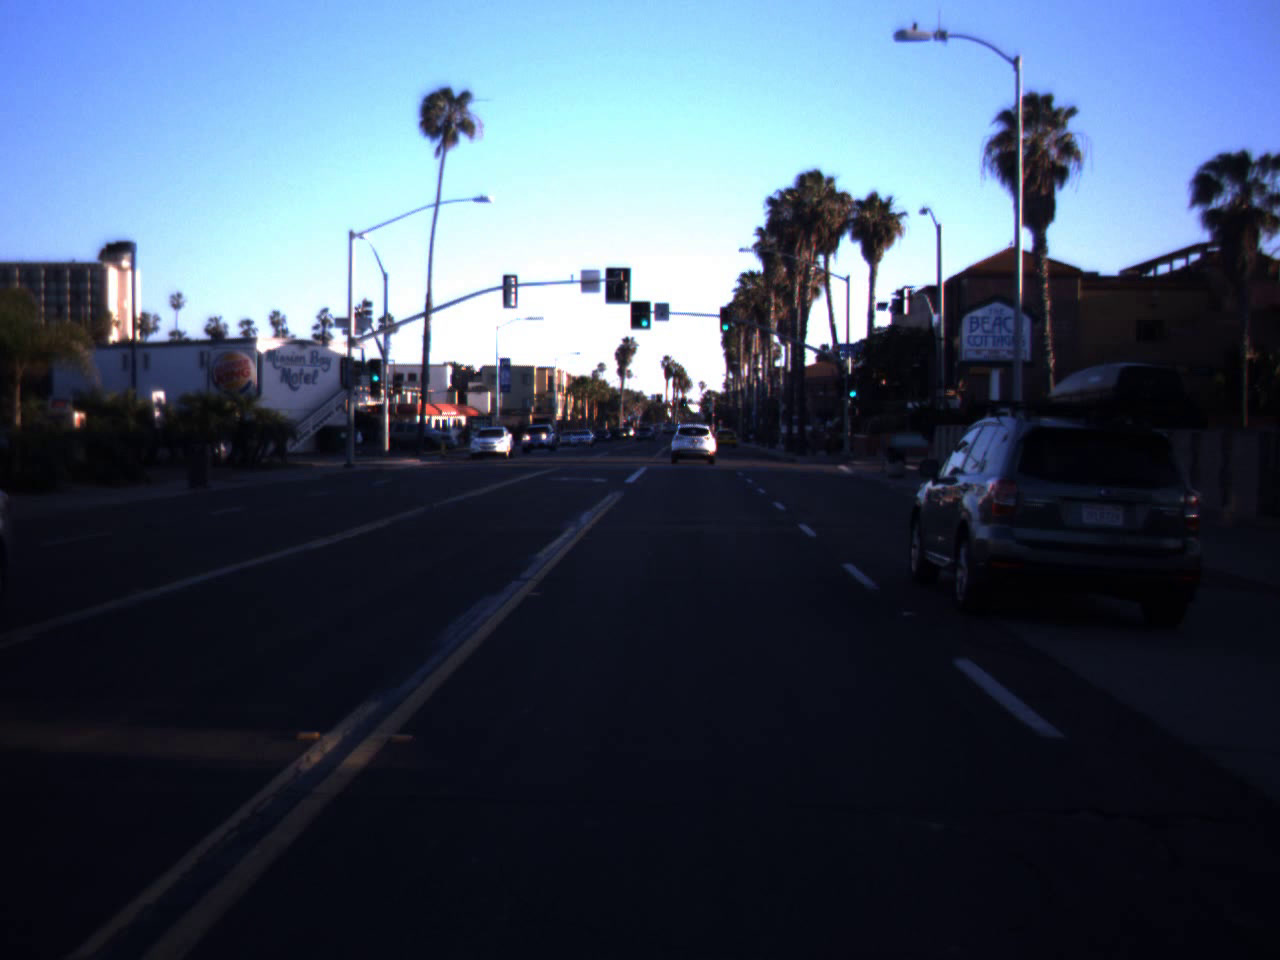go: (637, 303, 652, 328), (845, 378, 860, 398), (720, 312, 732, 332), (370, 362, 382, 382)
